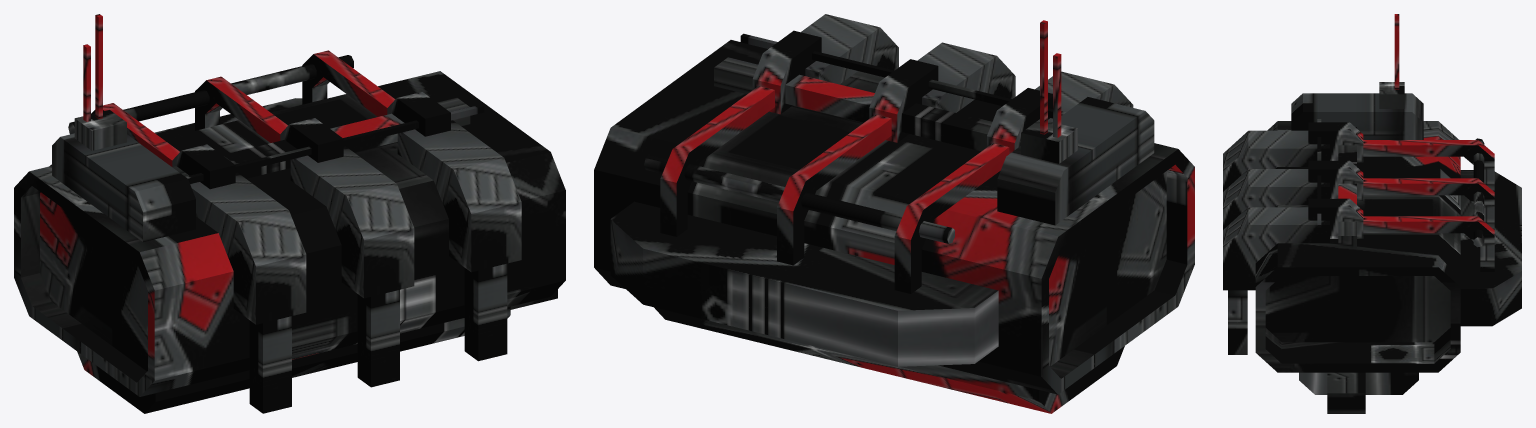
The model's file is Shipyard_Alpha.FBX.
3 renders of one model, left to right at view 1: azimuth 30°, elevation 25°; view 2: azimuth 150°, elevation 25°; view 3: azimuth 270°, elevation 25°, orthographic. The views are drawn at different scales.
Visible parts, largest first — view 1: Box01; view 2: Box01; view 3: Box01.
Part boxes in pixels (<box>): Box01: <box>14,14,565,413</box>; Box01: <box>594,14,1194,413</box>; Box01: <box>1223,14,1521,413</box>.
Bounding box in the file's own units: 215 × 161 × 169.
